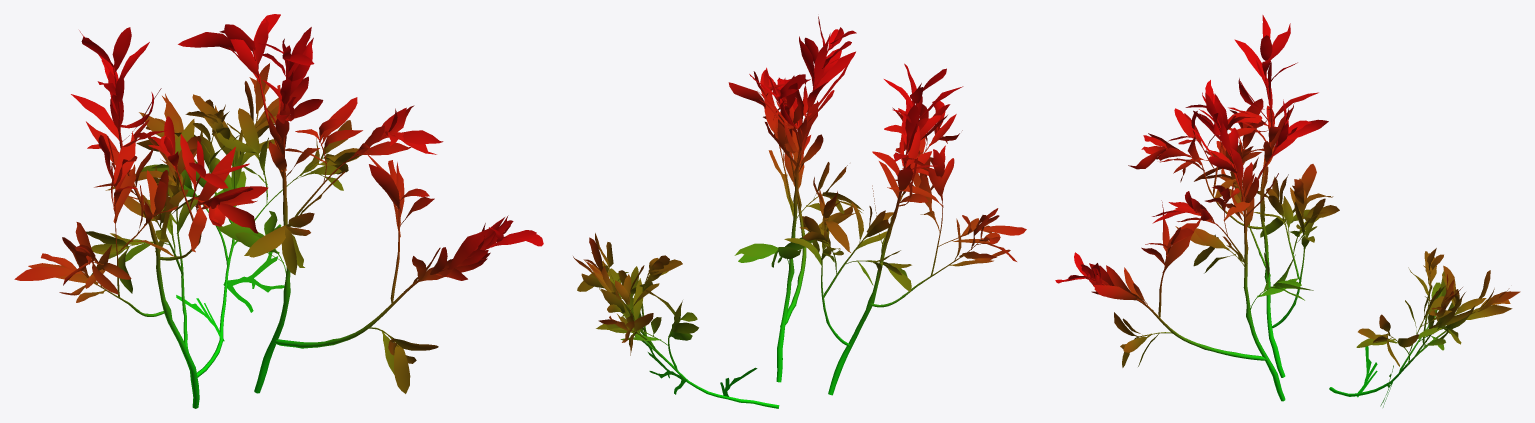
File: CA_M_LapplandweideVar11_LOD0.fbx
The picture shows the model from 3 angles, left to right: view 1: azimuth 30°, elevation 25°; view 2: azimuth 150°, elevation 25°; view 3: azimuth 270°, elevation 25°; orthographic projection. The views are drawn at different scales.
Visible parts, largest first — view 1: _u7ct_Var11_LOD0; view 2: _u7ct_Var11_LOD0; view 3: _u7ct_Var11_LOD0.
Part boxes in pixels (left/top/right/bottom): _u7ct_Var11_LOD0: left=14, top=14, right=543, bottom=408; _u7ct_Var11_LOD0: left=573, top=16, right=1026, bottom=408; _u7ct_Var11_LOD0: left=1055, top=15, right=1520, bottom=407.
Size of the model in its own units: 50.81 by 46.54 by 61.88.
